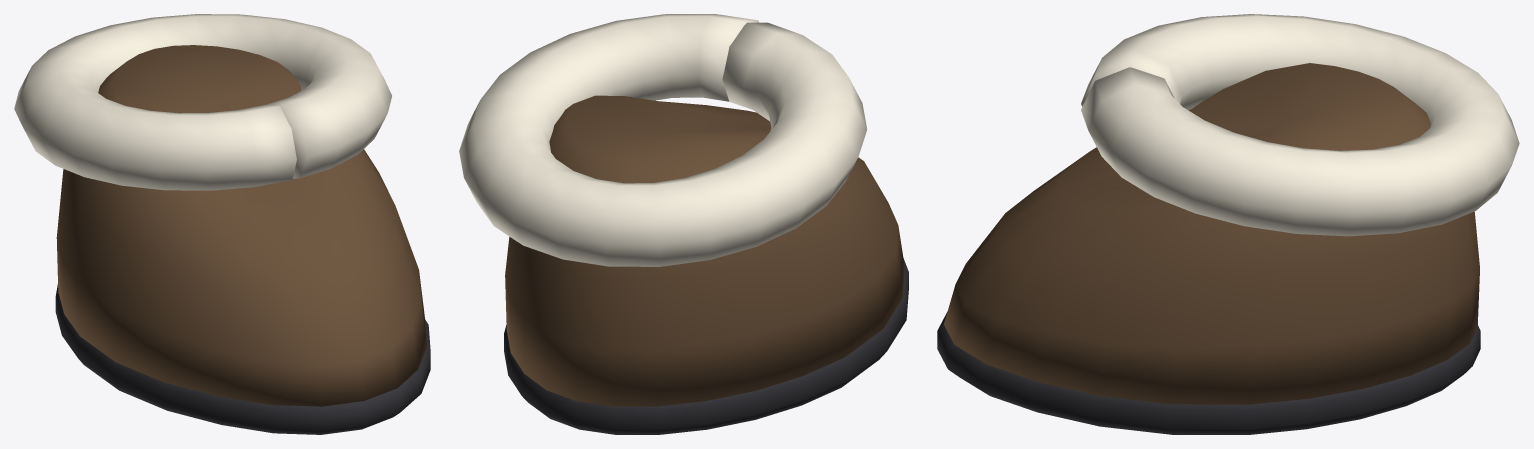
Rendered from calzado_zapatillas_casa.glb.
3 renders of one model, left to right at view 1: azimuth 30°, elevation 25°; view 2: azimuth 150°, elevation 25°; view 3: azimuth 270°, elevation 25°, orthographic. The views are drawn at different scales.
Parts seen in each view (by area): view 1: pieza; view 2: pieza; view 3: pieza.
Boxes of the visible parts, <box> form: pieza: <box>14,14,430,434</box>; pieza: <box>459,14,908,434</box>; pieza: <box>937,14,1519,434</box>.
Size of the model in its own units: 0.284 by 0.2226 by 0.403.
